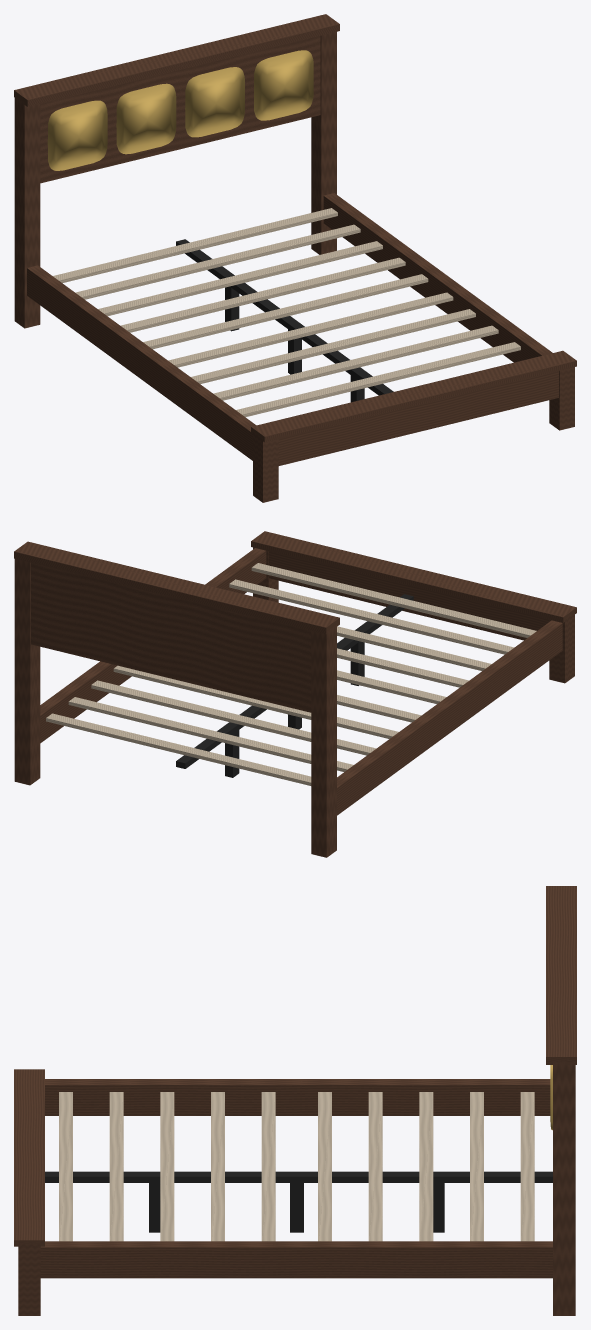
3 renders of one model, top to bottom at view 1: azimuth 30°, elevation 25°; view 2: azimuth 150°, elevation 25°; view 3: azimuth 270°, elevation 25°, orthographic. The views are drawn at different scales.
Parts seen in each view (by area): view 1: 13 left_side_rail, 4 headboard_panel, 11 footboard_panel, 3 headboard_top_cap, 14 right_side_rail, 12 footboard_top_cap, 1 headboard_left_post, 2 headboard_right_post, 6 rattan_arch_2, 5 rattan_arch_1, 8 rattan_arch_4, 7 rattan_arch_3 (+12 smaller); view 2: 4 headboard_panel, 13 left_side_rail, 3 headboard_top_cap, 12 footboard_top_cap, 1 headboard_left_post, 2 headboard_right_post, 11 footboard_panel, 14 right_side_rail, 27 slat_9, 28 slat_10, 19 slat_1, 21 slat_3 (+8 smaller); view 3: 14 right_side_rail, 13 left_side_rail, 2 headboard_right_post, 3 headboard_top_cap, 12 footboard_top_cap, 15 center_support_bar, 19 slat_1, 21 slat_3, 22 slat_4, 24 slat_6, 26 slat_8, 27 slat_9 (+8 smaller).
Boxes of the visible parts, x1,y1,x2,y2 form: 13 left_side_rail: [27, 265, 256, 460]; 4 headboard_panel: [40, 36, 320, 183]; 11 footboard_panel: [278, 371, 558, 465]; 3 headboard_top_cap: [14, 14, 339, 106]; 14 right_side_rail: [323, 193, 552, 362]; 12 footboard_top_cap: [251, 350, 576, 442]; 1 headboard_left_post: [14, 96, 40, 328]; 2 headboard_right_post: [311, 32, 336, 254]; 6 rattan_arch_2: [116, 83, 176, 154]; 5 rattan_arch_1: [47, 100, 107, 170]; 8 rattan_arch_4: [254, 50, 313, 120]; 7 rattan_arch_3: [185, 67, 244, 137]; 4 headboard_panel: [31, 562, 311, 712]; 13 left_side_rail: [337, 620, 562, 815]; 3 headboard_top_cap: [14, 541, 339, 634]; 12 footboard_top_cap: [251, 531, 576, 622]; 1 headboard_left_post: [311, 625, 336, 857]; 2 headboard_right_post: [14, 559, 40, 785]; 11 footboard_panel: [269, 551, 549, 640]; 14 right_side_rail: [40, 548, 266, 743]; 27 slat_9: [229, 579, 514, 654]; 28 slat_10: [251, 563, 536, 637]; 19 slat_1: [46, 713, 311, 785]; 21 slat_3: [91, 680, 376, 755]; 14 right_side_rail: [40, 1241, 552, 1278]; 13 left_side_rail: [45, 1079, 550, 1115]; 2 headboard_right_post: [553, 1062, 575, 1315]; 3 headboard_top_cap: [546, 886, 576, 1064]; 12 footboard_top_cap: [14, 1069, 44, 1246]; 15 center_support_bar: [45, 1171, 552, 1182]; 19 slat_1: [520, 1092, 534, 1241]; 21 slat_3: [419, 1092, 433, 1241]; 22 slat_4: [368, 1092, 382, 1241]; 24 slat_6: [261, 1092, 275, 1241]; 26 slat_8: [160, 1092, 174, 1241]; 27 slat_9: [109, 1092, 123, 1241].
Bounding box in the file's own units: 1.42 × 1 × 1.97.
4 materials, 2 textured.
